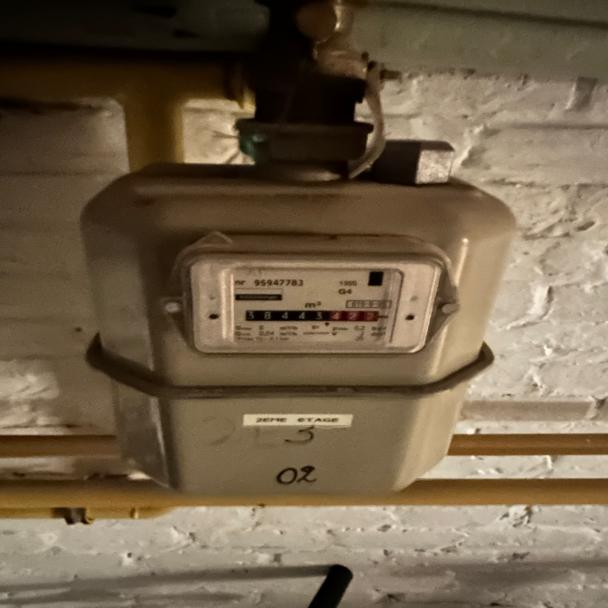2: (362, 309, 380, 322), (345, 310, 361, 321)
3: (310, 310, 330, 322), (244, 310, 258, 321)
4: (292, 309, 308, 322), (330, 310, 345, 322), (277, 310, 290, 321)
8: (259, 311, 276, 321)
cm: (331, 309, 381, 324)
counter: (244, 309, 330, 323)
